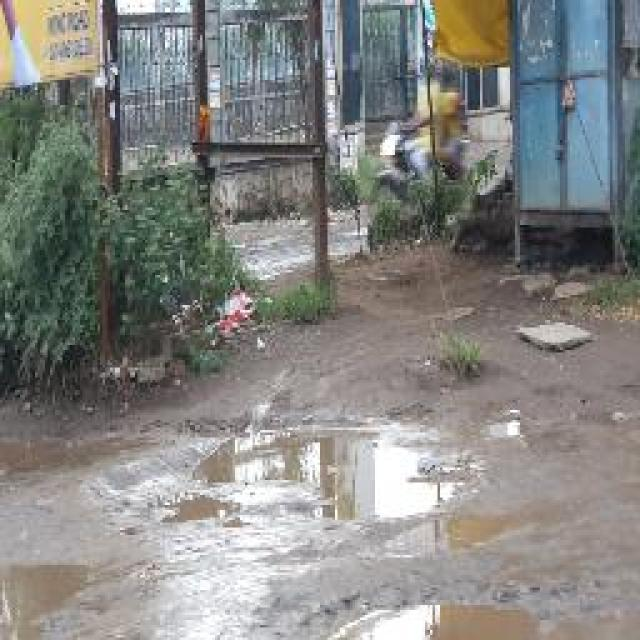stagnation: (152, 411, 488, 544), (310, 585, 560, 640)
